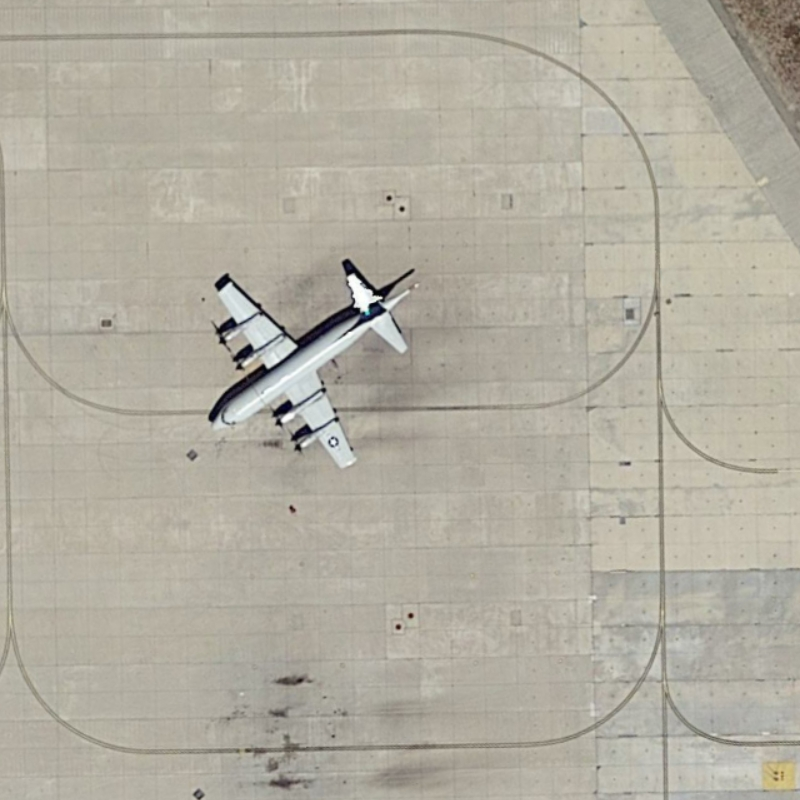A9: (202, 258, 424, 480)
